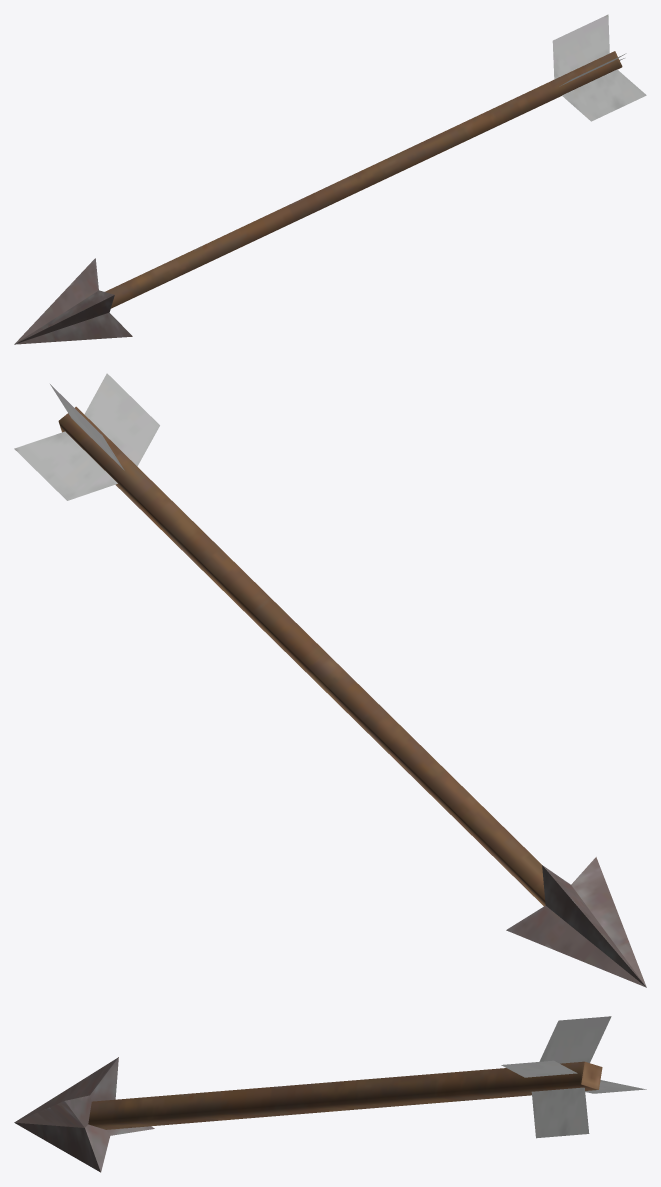
Rendered from arrow-slice-base.glb.
3 renders of one model, top to bottom at view 1: azimuth 30°, elevation 25°; view 2: azimuth 150°, elevation 25°; view 3: azimuth 330°, elevation 25°, orthographic. The views are drawn at different scales.
Bounding box in the file's own units: 1.32 × 0.6102 × 0.4691.
1 material, 1 textured.
